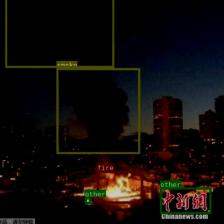fire: (97, 170, 142, 203)
smoke: (5, 0, 114, 67), (56, 68, 140, 154)
